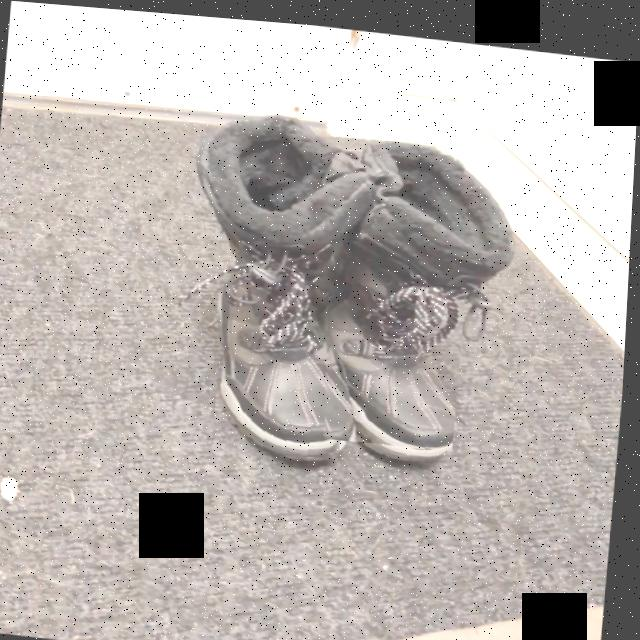shoe: (225, 266, 348, 453), (331, 269, 459, 444)
